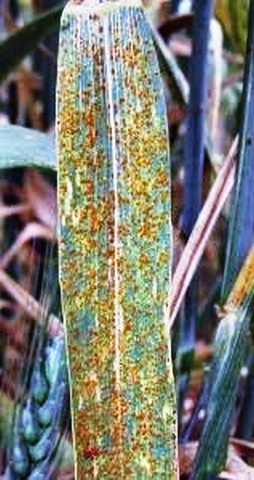Leaf Rust: (43, 47, 202, 472)
